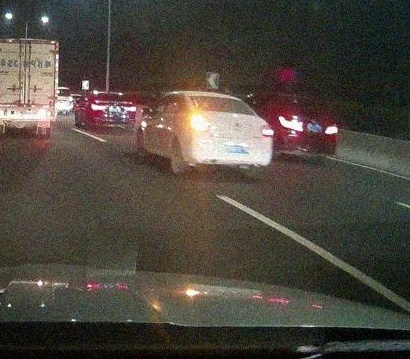L_light: (187, 116, 207, 129), (91, 103, 106, 110)
R_light: (261, 127, 274, 135), (123, 106, 135, 112)
T_light: (212, 95, 224, 99), (109, 93, 118, 95)
night-left: (179, 91, 274, 180)
night-no: (90, 90, 136, 133)
